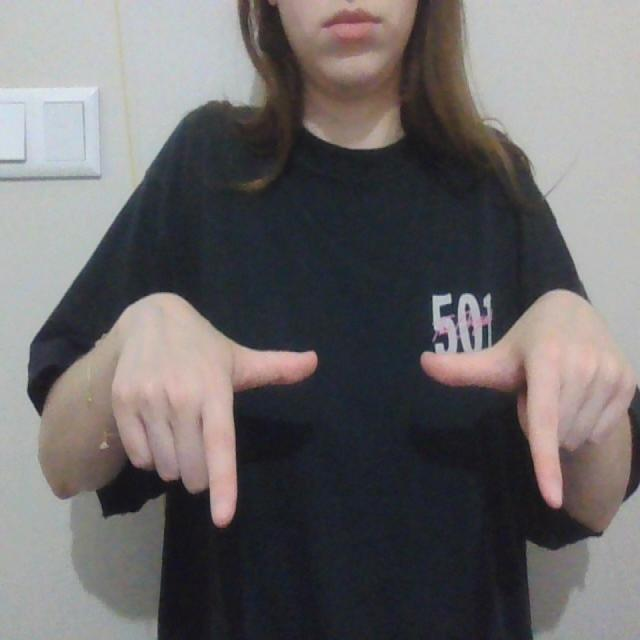Nerede: (187, 342, 574, 543)
